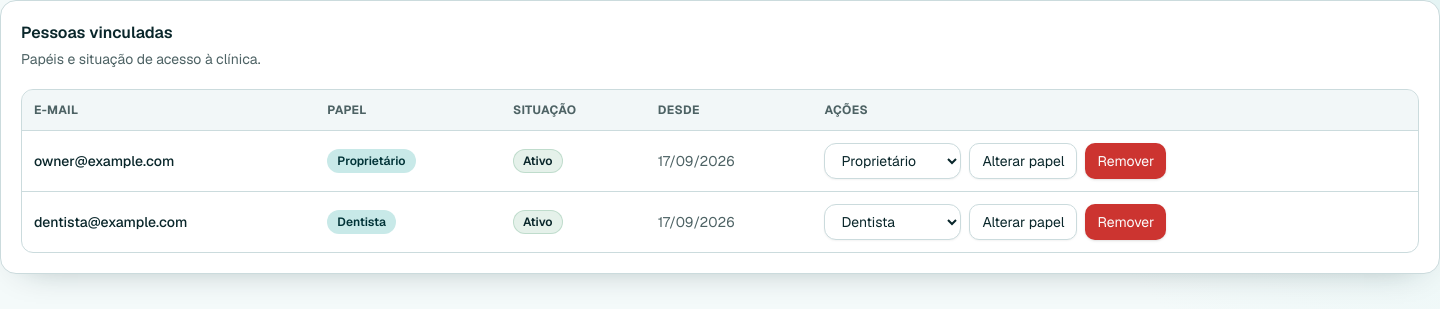
Test: MembersTable › removes a member after confirmation
Click the button with aria-label "Remover dentista@example.com".
click(1126, 222)  # box [1086,204,1166,240]
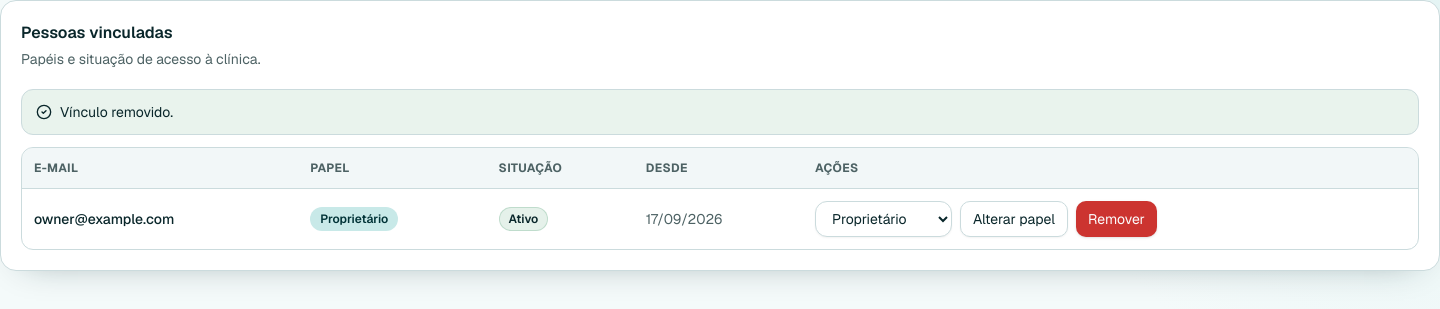
Check: the text "dentista@example.com" is gone
